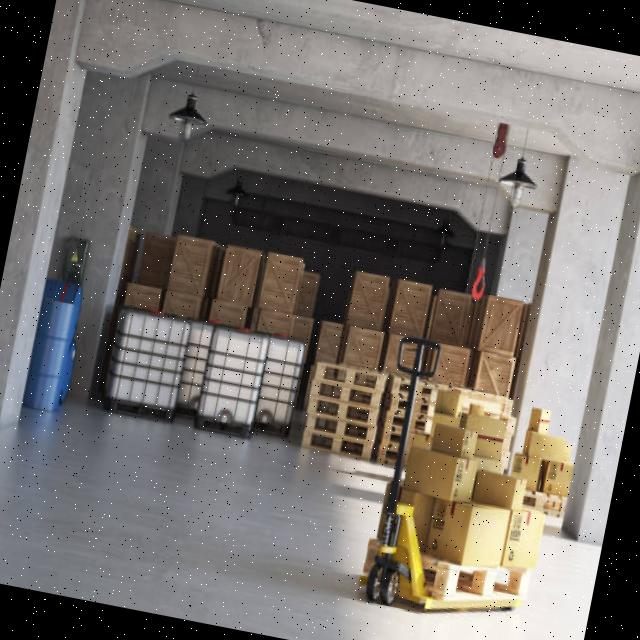Wooden-Pallets: (436, 543, 536, 614), (312, 352, 391, 395), (303, 404, 379, 444), (309, 378, 390, 411), (302, 428, 376, 464)
